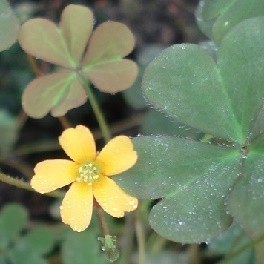oxalis: (139, 26, 264, 255), (13, 9, 135, 110)
